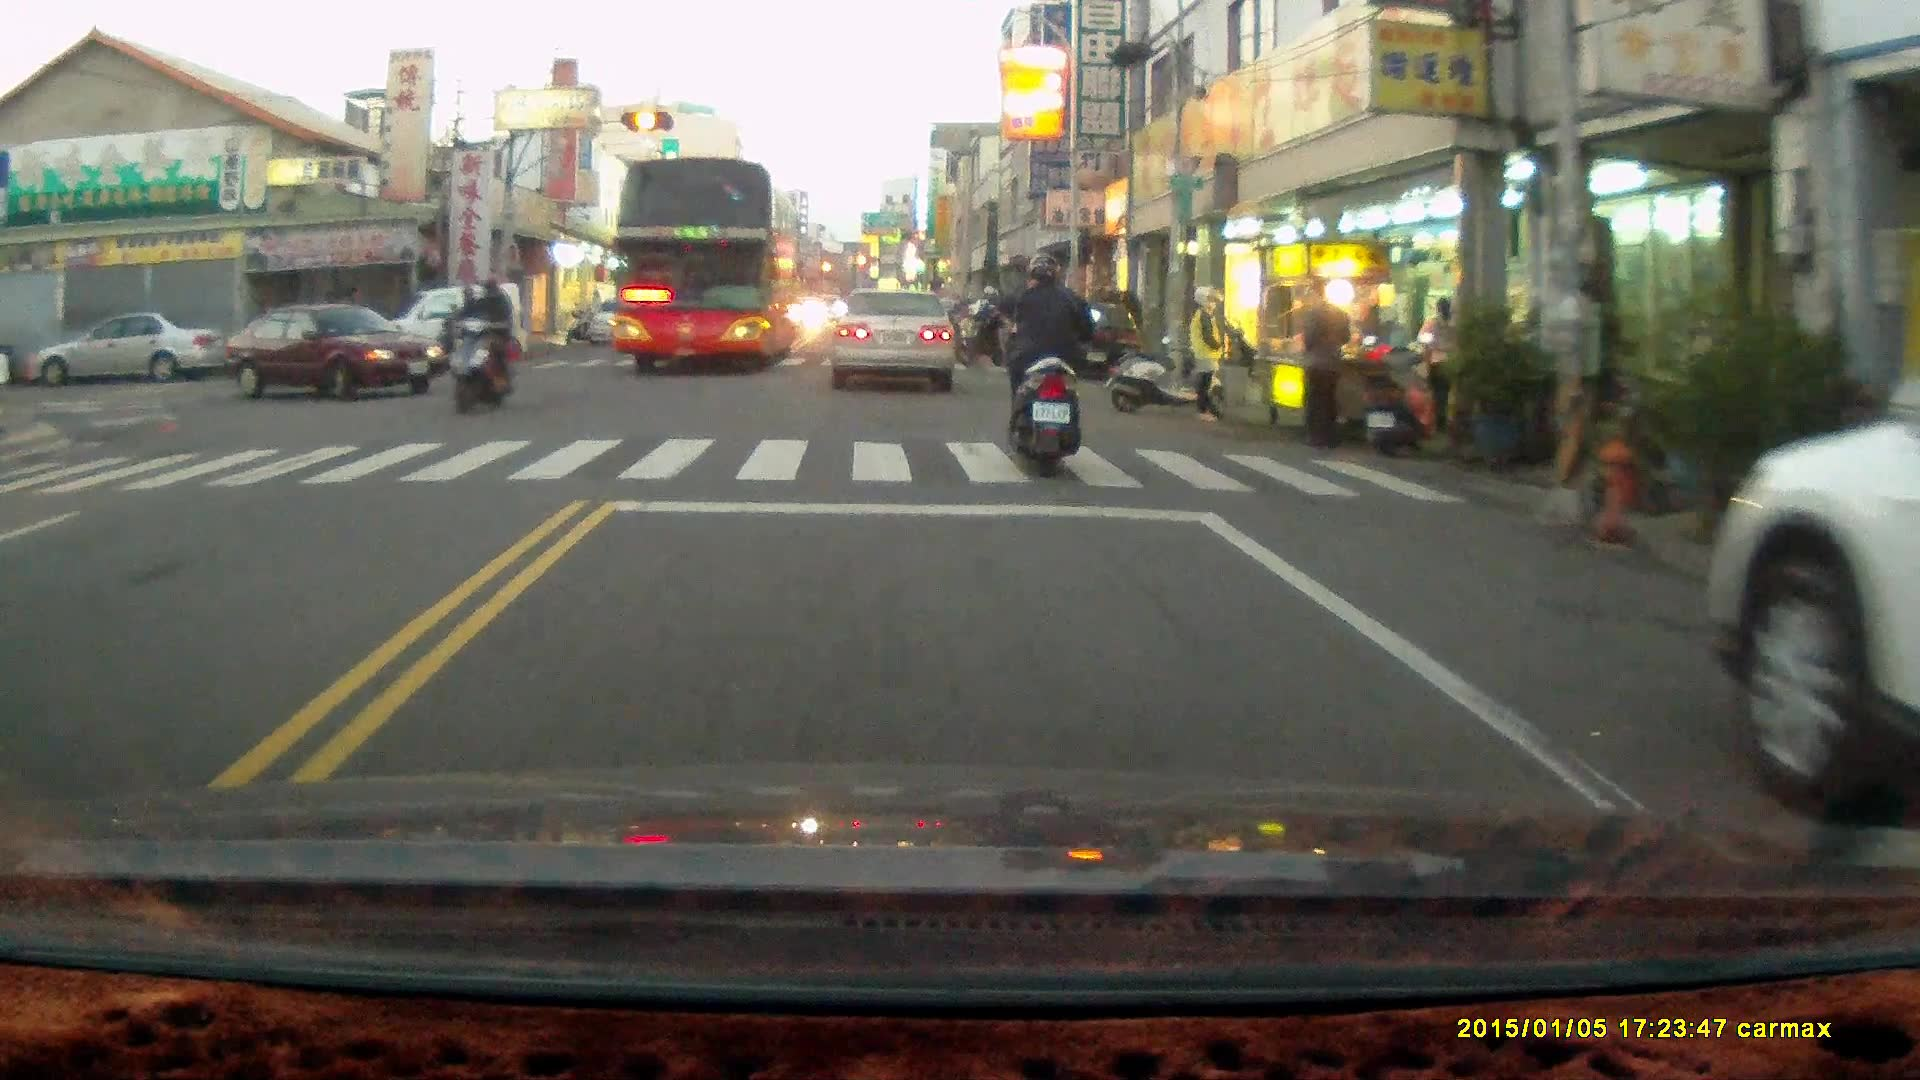pedestrian: (1298, 270, 1350, 447), (1184, 280, 1225, 422), (1417, 297, 1459, 438)
rider: (994, 242, 1103, 473), (447, 269, 514, 413), (955, 283, 1018, 367)
vehicle: (1696, 348, 1920, 834), (614, 159, 797, 380), (227, 302, 442, 399), (26, 311, 208, 389), (831, 288, 962, 392), (1046, 296, 1148, 380), (590, 294, 665, 351)
